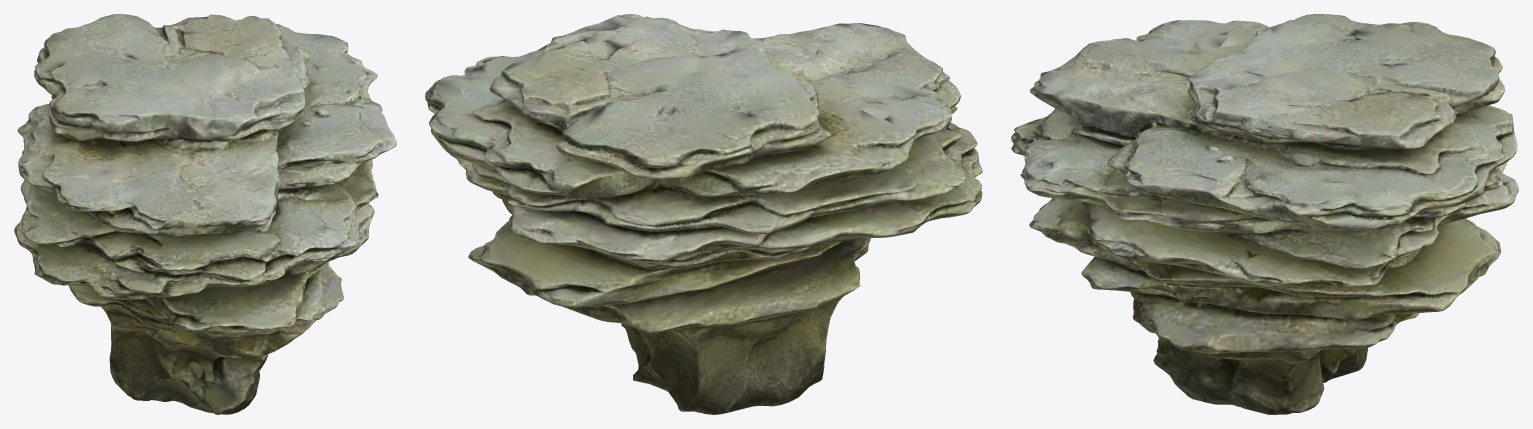
Rendered from JiaShanShi_15.glb.
3 views of the same model, side by side, from view 1: azimuth 30°, elevation 25°; view 2: azimuth 150°, elevation 25°; view 3: azimuth 270°, elevation 25° (orthographic). The views are drawn at different scales.
Parts seen in each view (by area): view 1: tripo_node_aba174a2-e499-4c86-9ee0-6f25be9598ae; view 2: tripo_node_aba174a2-e499-4c86-9ee0-6f25be9598ae; view 3: tripo_node_aba174a2-e499-4c86-9ee0-6f25be9598ae.
Boxes of the visible parts, bbox=[...] form: tripo_node_aba174a2-e499-4c86-9ee0-6f25be9598ae: bbox=[14, 14, 396, 414]; tripo_node_aba174a2-e499-4c86-9ee0-6f25be9598ae: bbox=[425, 14, 982, 414]; tripo_node_aba174a2-e499-4c86-9ee0-6f25be9598ae: bbox=[1011, 14, 1518, 414].
Size of the model in its own units: 0.9758 by 0.6959 by 0.9783.
1 material, 1 textured.
